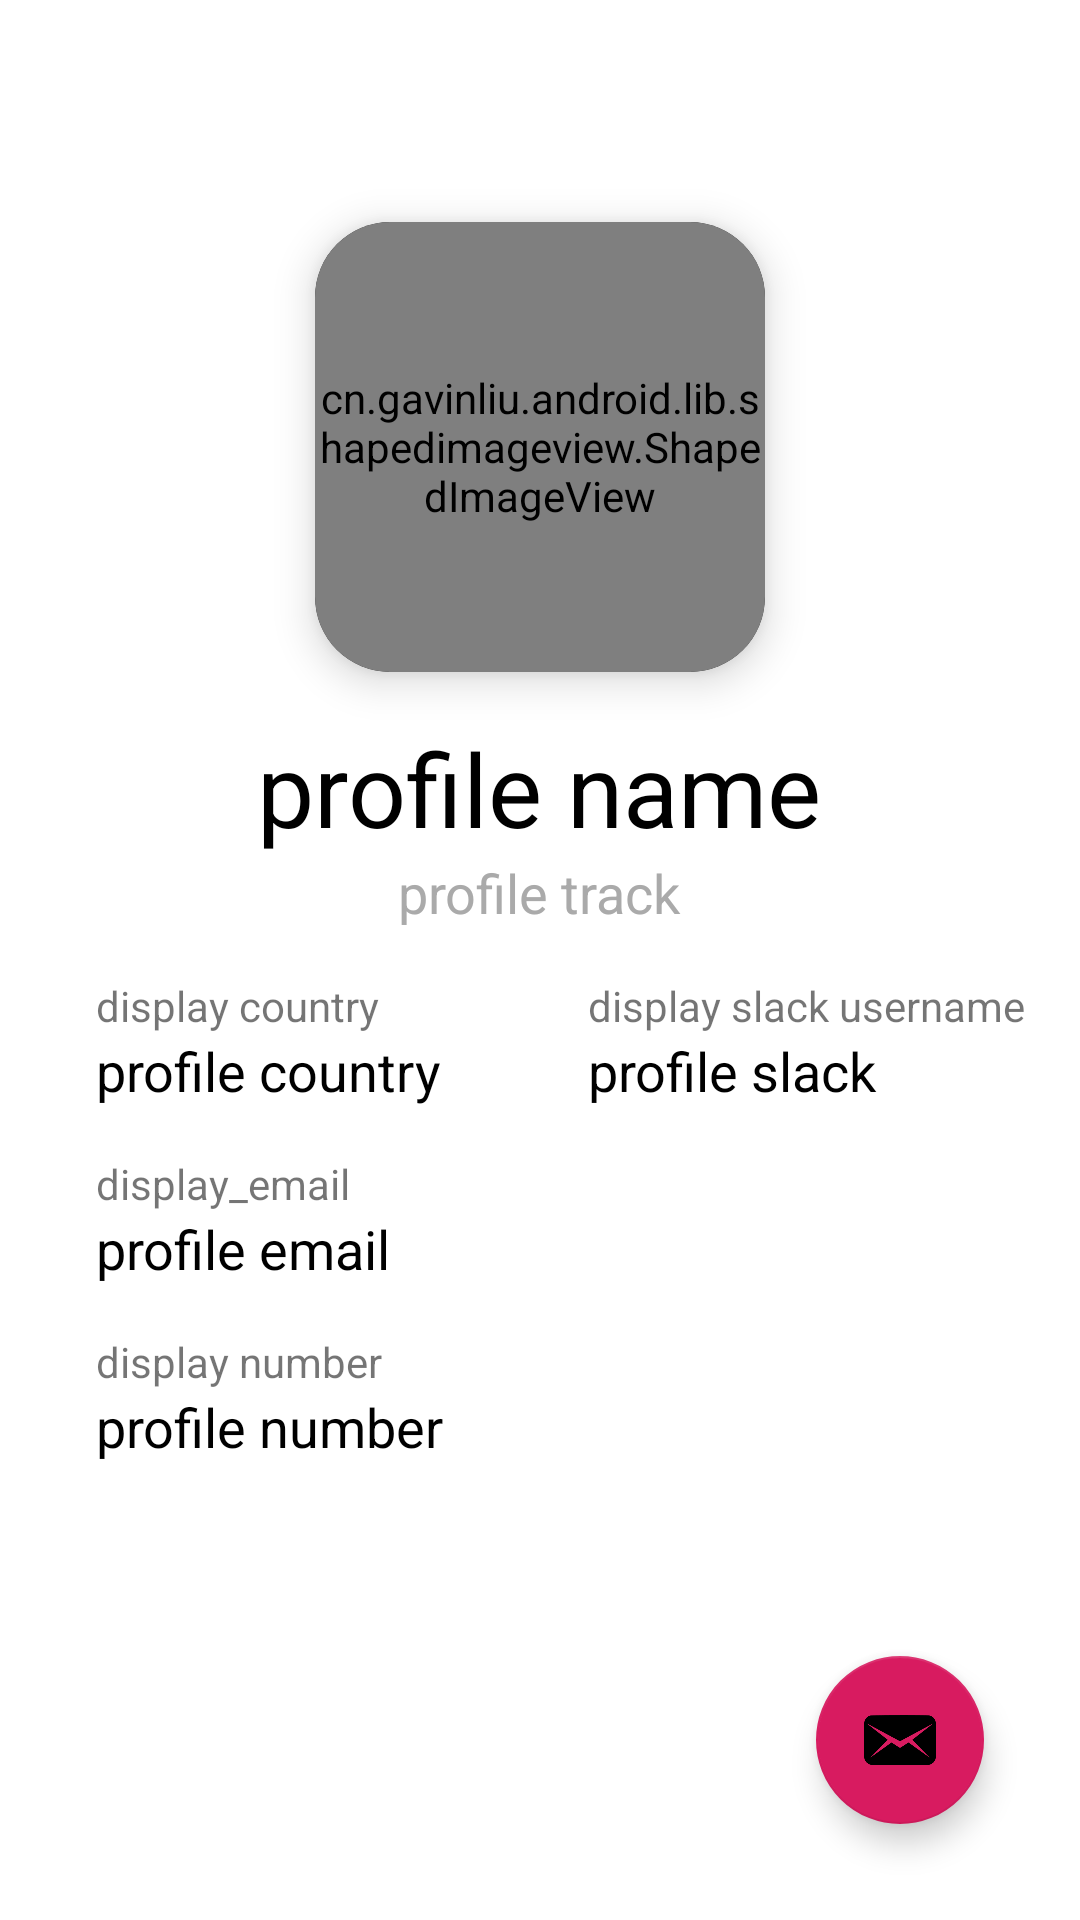

Screen size 1080w x 1920h. Icon name, then its box in pixels as {"left": x1, "top": y1, "right": x2, "bottom": y2}:
mail: {"left": 816, "top": 1656, "right": 984, "bottom": 1824}
